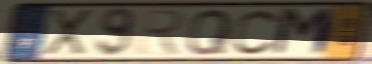9: (93, 6, 137, 60)
C: (231, 8, 283, 57)
M: (270, 6, 339, 58)
Q: (184, 8, 235, 57)
R: (135, 8, 188, 57)
X: (43, 8, 95, 58)
